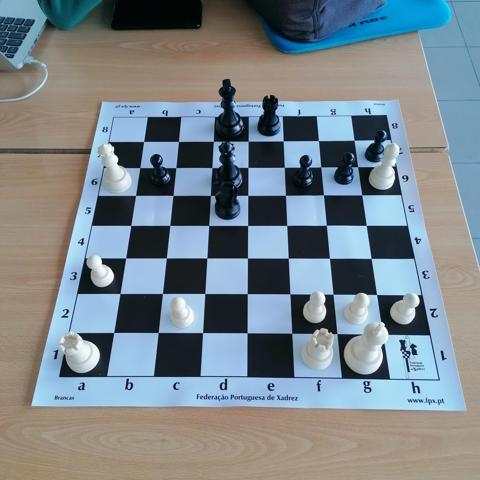xcorner: (131, 160, 147, 176), (127, 188, 143, 204), (111, 288, 127, 304), (105, 327, 121, 343), (164, 188, 180, 204), (161, 218, 177, 234), (149, 327, 165, 343), (205, 133, 221, 149), (200, 218, 216, 234), (196, 288, 212, 304), (240, 133, 256, 149), (240, 159, 256, 175), (239, 218, 255, 234), (239, 251, 255, 267), (239, 288, 255, 304), (276, 159, 292, 175), (279, 218, 295, 234), (282, 288, 298, 304), (284, 328, 300, 344), (310, 132, 326, 148), (322, 251, 338, 267), (329, 328, 345, 344), (369, 288, 385, 304), (375, 328, 391, 344), (136, 134, 151, 150), (122, 219, 138, 234), (117, 252, 133, 267), (170, 134, 186, 149), (167, 160, 183, 175), (157, 252, 173, 267), (154, 288, 169, 304), (204, 159, 219, 175), (202, 188, 218, 203), (198, 252, 214, 267), (194, 328, 210, 343), (240, 187, 255, 203), (239, 328, 255, 343), (275, 133, 291, 148), (278, 187, 293, 203), (281, 251, 296, 267), (313, 159, 329, 174), (316, 187, 331, 203), (319, 218, 334, 234), (326, 288, 341, 304), (346, 132, 361, 148), (350, 158, 365, 174), (354, 187, 370, 202), (364, 251, 379, 267), (359, 218, 374, 233)
